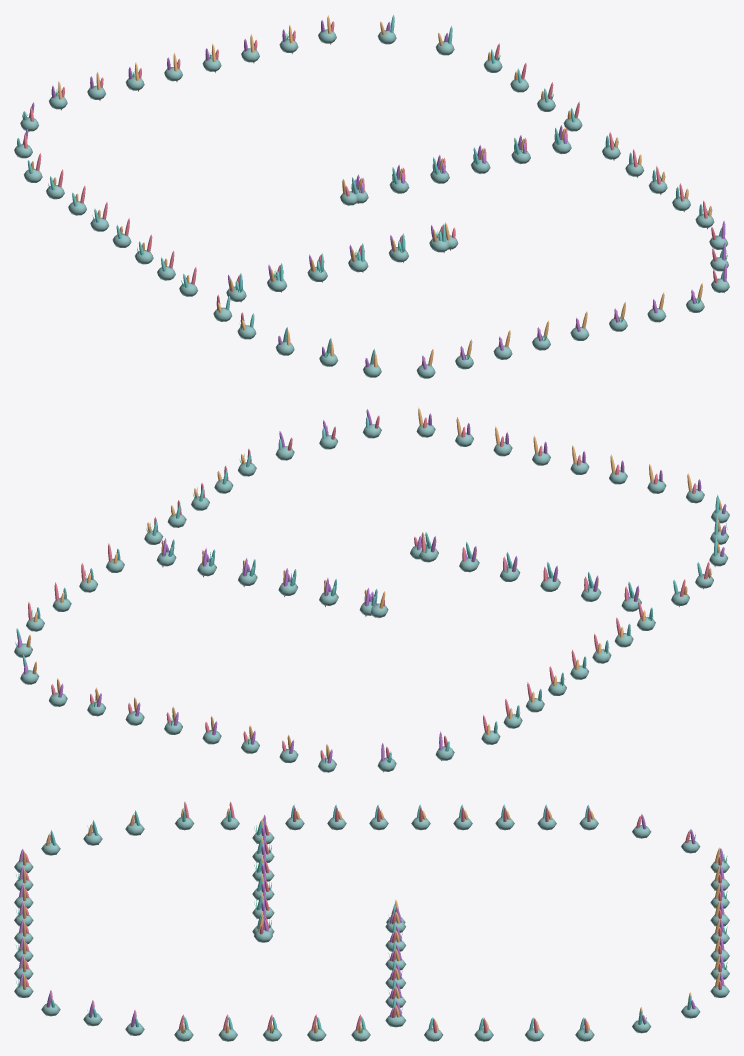
Rendered from reef-26-C9j36jB0.glb.
3 views of the same model, one above another, from view 1: azimuth 30°, elevation 25°; view 2: azimuth 150°, elevation 25°; view 3: azimuth 270°, elevation 25° (orthographic). The views are drawn at different scales.
Parts seen in each view (by area): view 1: ReefRock, Coral2, Coral3, Coral0, Coral1; view 2: ReefRock, Coral0, Coral1, Coral3, Coral2; view 3: ReefRock, Coral0, Coral2, Coral1, Coral3.
Part boxes in pixels (x1,y1,x2,y2): ReefRock: (14, 29, 729, 378); Coral2: (31, 15, 711, 367); Coral3: (17, 14, 723, 364); Coral0: (24, 21, 717, 365); Coral1: (22, 20, 726, 369); ReefRock: (14, 423, 729, 772); Coral0: (28, 415, 709, 760); Coral1: (17, 409, 726, 772); Coral3: (16, 416, 719, 762); Coral2: (26, 407, 722, 758); ReefRock: (14, 817, 729, 1041); Coral0: (25, 801, 721, 1040); Coral2: (22, 808, 720, 1033); Coral1: (19, 814, 724, 1035); Coral3: (50, 804, 691, 1030).
Size of the model in its own units: 37 by 2.06 by 51.1.
